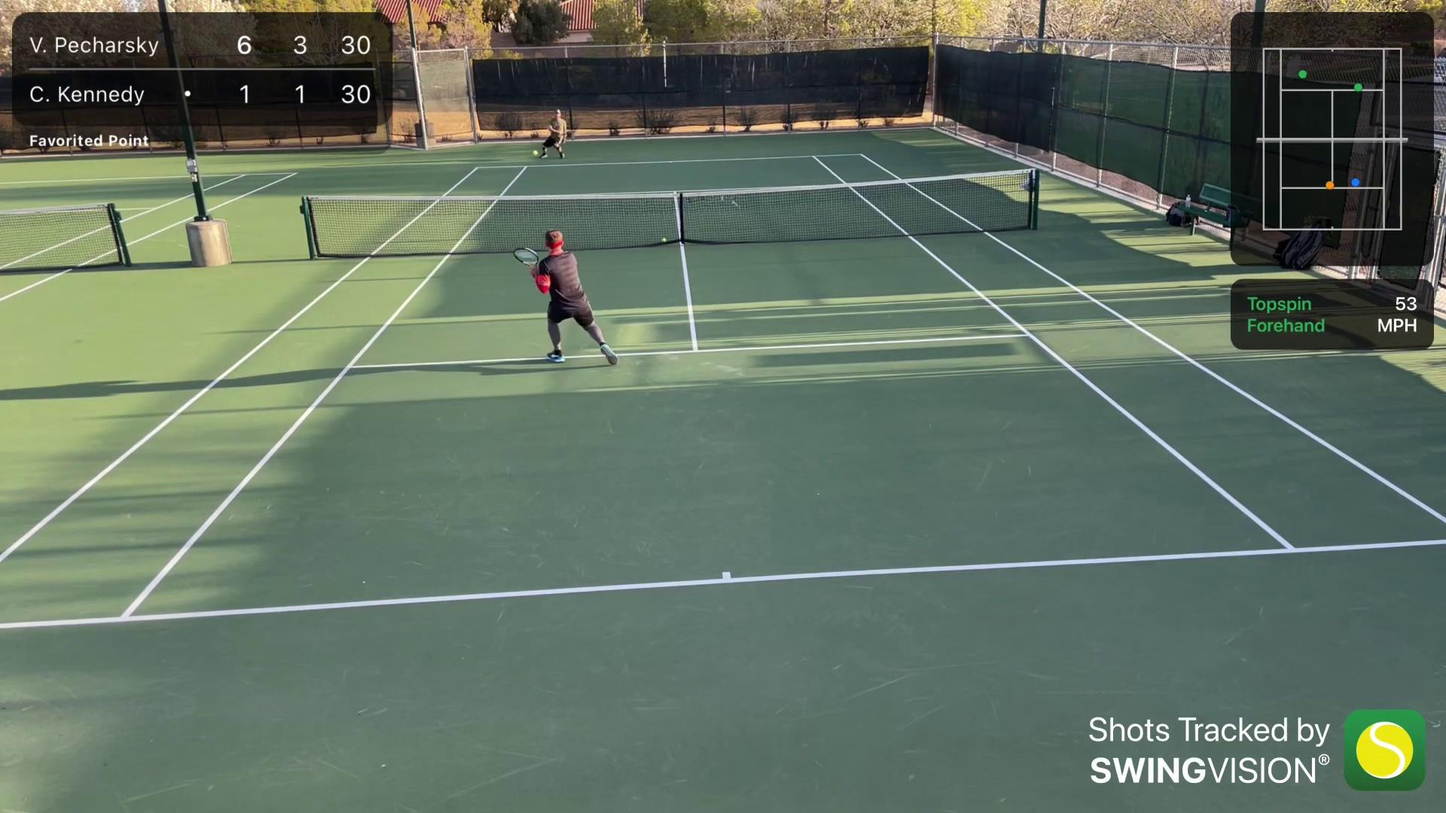ball: (660, 236, 668, 244), (531, 150, 538, 157)
